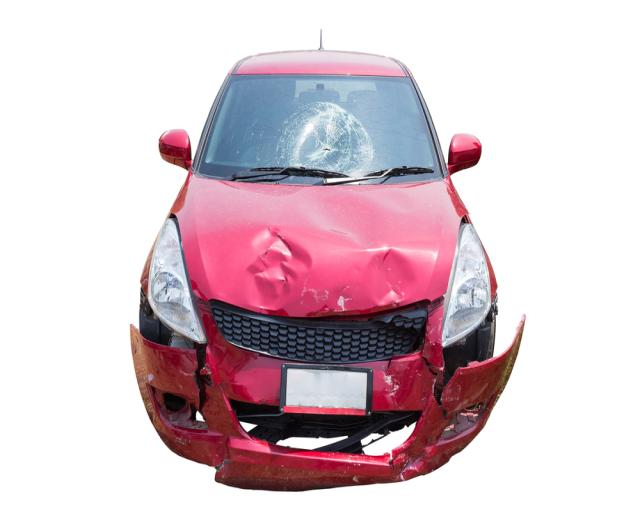crack: (422, 356, 457, 419), (194, 345, 214, 413), (390, 450, 394, 473)
dent: (240, 186, 412, 317), (382, 365, 412, 403)
glass shatter: (198, 74, 441, 186)
